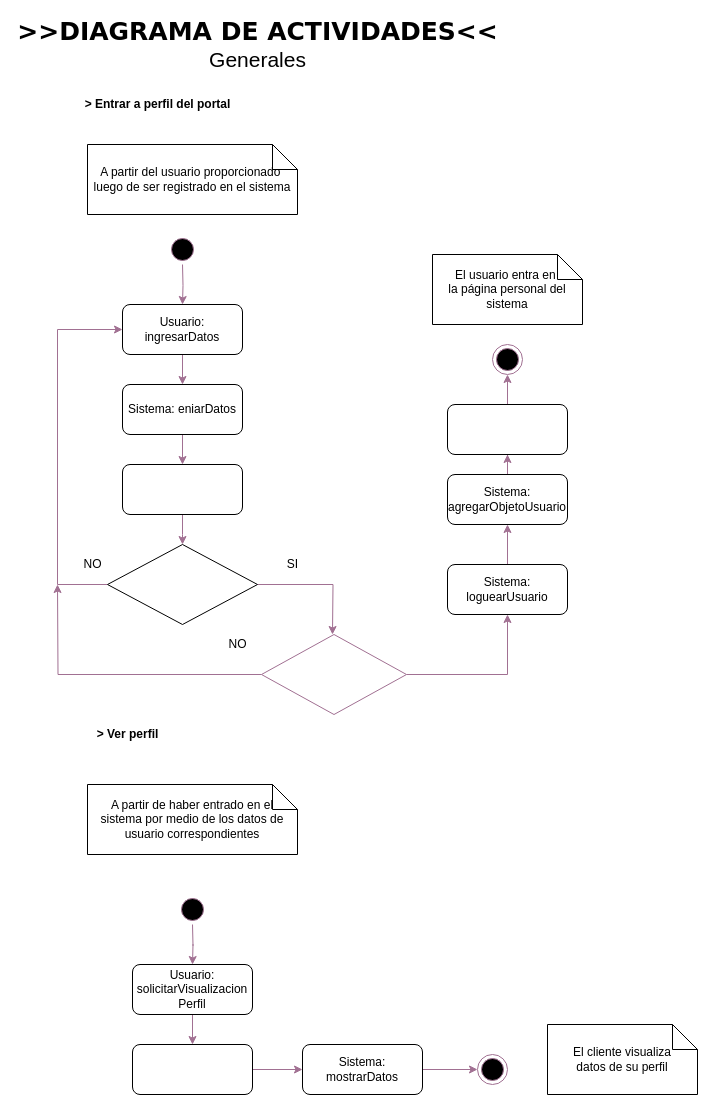
Some shapes in this 715 by 1112 pixel diagram are drawn without their labels. Each missing label, with the box of its shape:
Sistema: buscarDatosCliente: (122, 464, 242, 514)
Sistema: mostrarPaginaPerfil: (446, 404, 568, 454)
Sistema: solicitarDatosA ClienteInstanciado: (132, 1044, 252, 1094)
Sistema: verificarCongruencia Datos: (260, 634, 406, 714)
Sistema: verificarExistencia Usuario: (106, 544, 258, 624)
